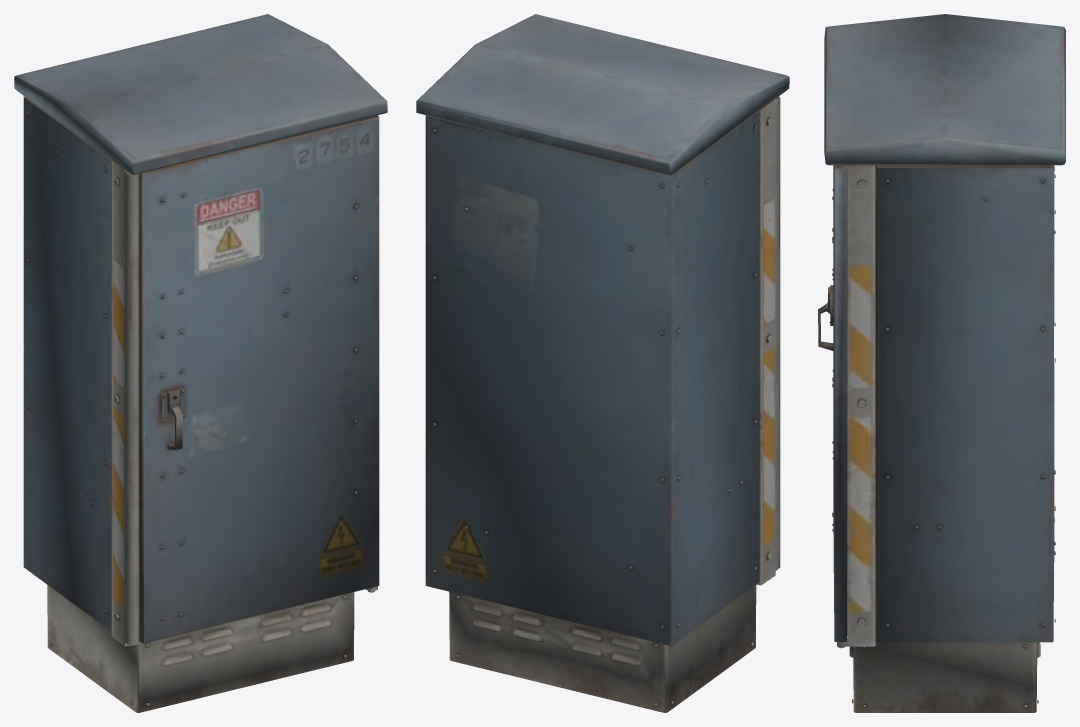
File: ubox.glb
3 views of the same model, side by side, from view 1: azimuth 30°, elevation 25°; view 2: azimuth 150°, elevation 25°; view 3: azimuth 270°, elevation 25° (orthographic).
Parts seen in each view (by area): view 1: utility_box_01_box; view 2: utility_box_01_box; view 3: utility_box_01_box.
Boxes of the visible parts, x1,y1,x2,y2 form: utility_box_01_box: (14,14,387,712); utility_box_01_box: (416,14,789,712); utility_box_01_box: (818,14,1065,712).
Size of the model in its own units: 0.5181 by 1.12 by 0.431.
Materials: 1 (1 with a texture image).
